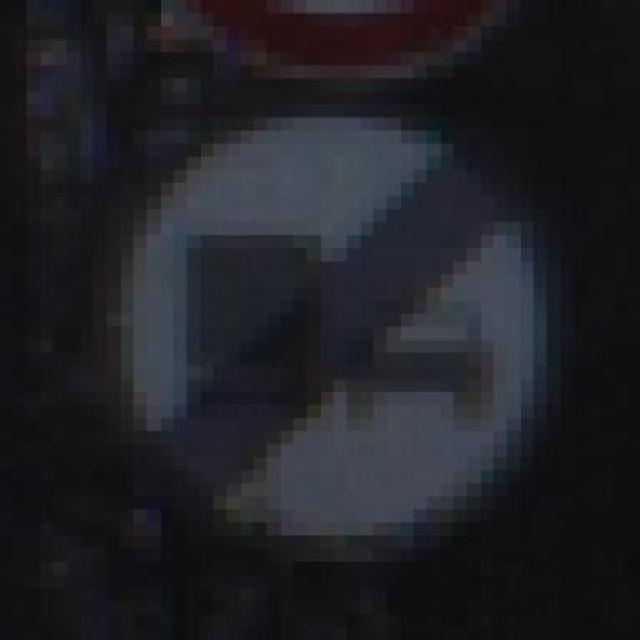Overtaking by trucks is prohibited: (67, 92, 587, 600)
